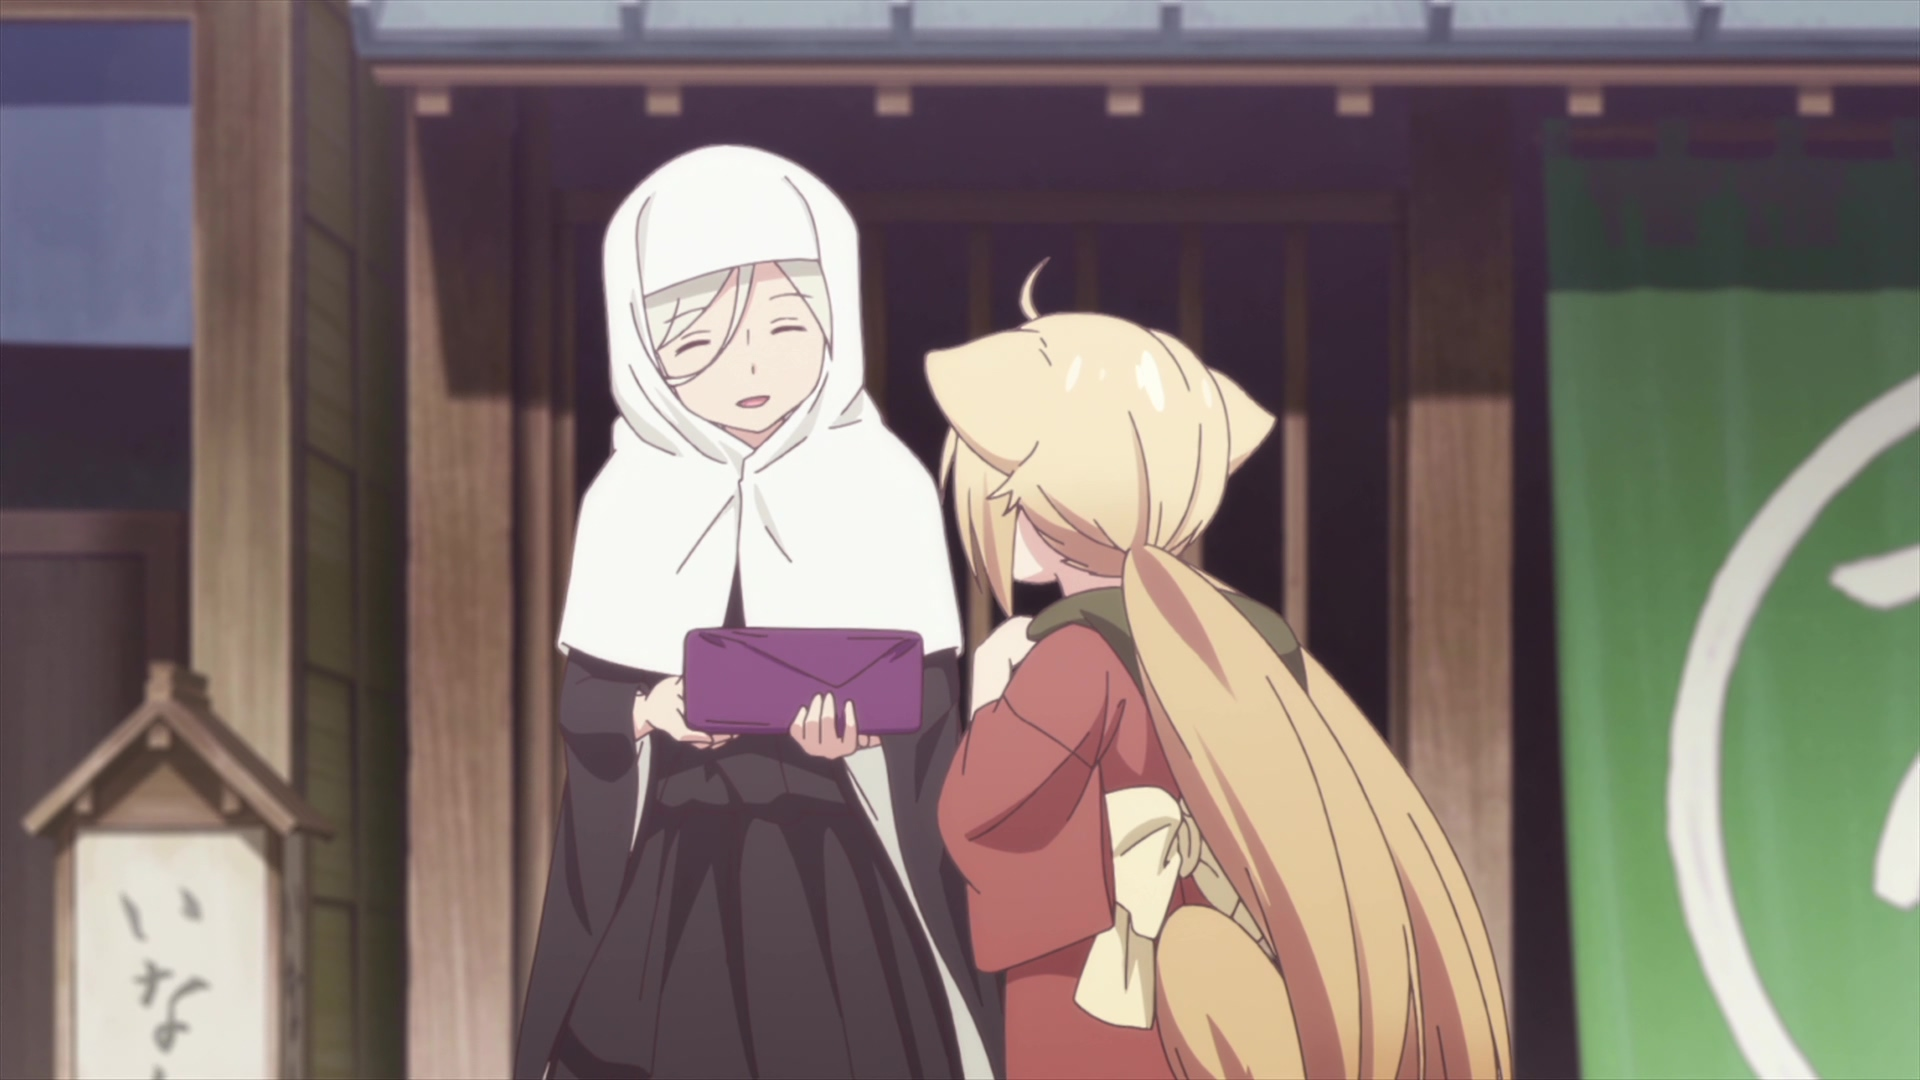八百比丘尼: (517, 140, 975, 1080)
柚: (924, 255, 1513, 1080)
